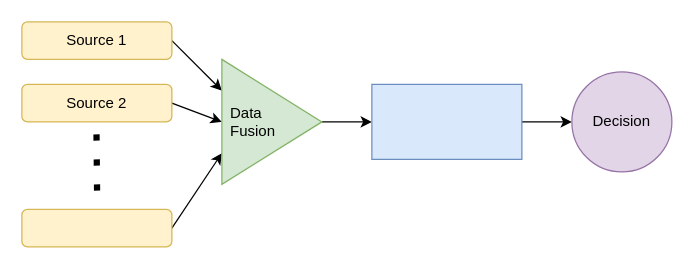
This 694x269 diagram has some shape labels left out. The shapes that lost their labels are listed below. From the top down, each one's centre as x and y in pixels, then its label:
At point 446,121: "Feature Extraction".
At point 96,227: "Source n".
